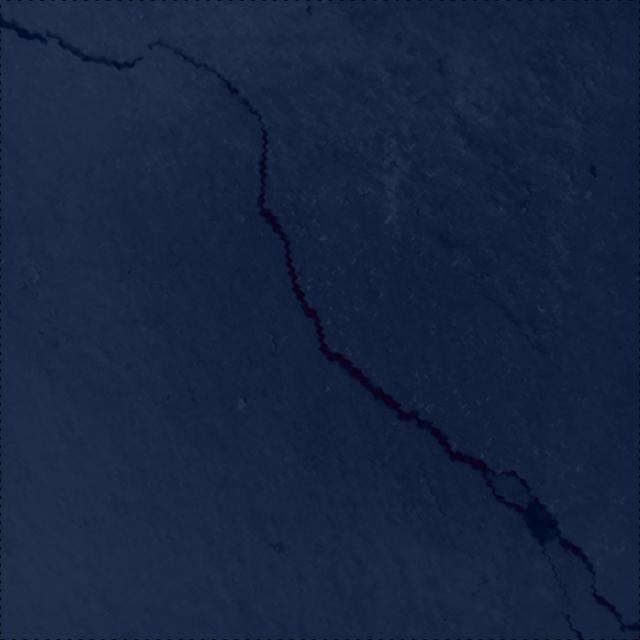crack: (0, 15, 640, 633), (554, 589, 586, 640)
